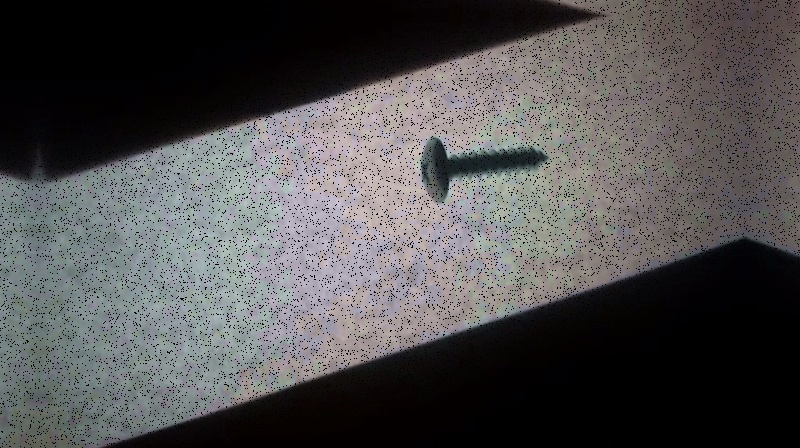S003: (417, 134, 552, 205)
